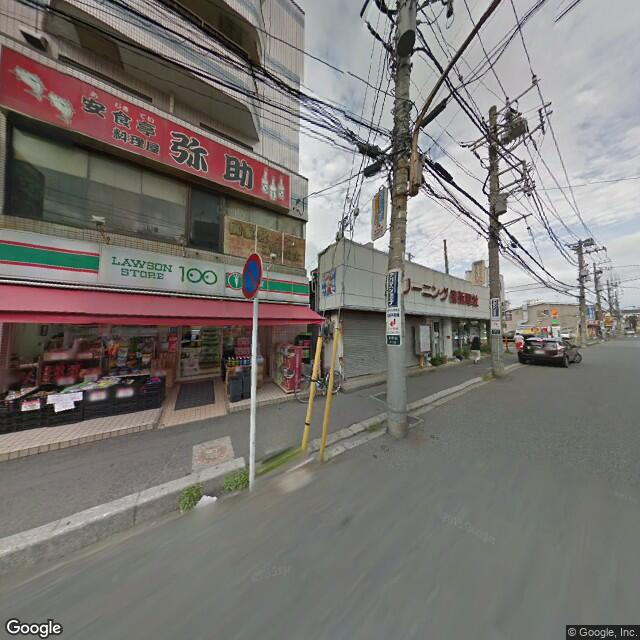lawson: (1, 227, 309, 307)
